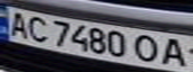0: (106, 28, 130, 58)
4: (66, 23, 90, 53)
7: (48, 18, 72, 47)
8: (87, 25, 109, 56)
A: (157, 35, 193, 69), (3, 9, 30, 38)
C: (24, 14, 51, 43)
O: (130, 33, 163, 64)
